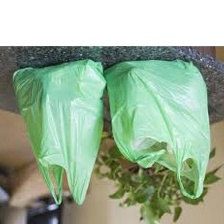plastic_bag: (100, 57, 212, 201), (8, 56, 108, 209)
